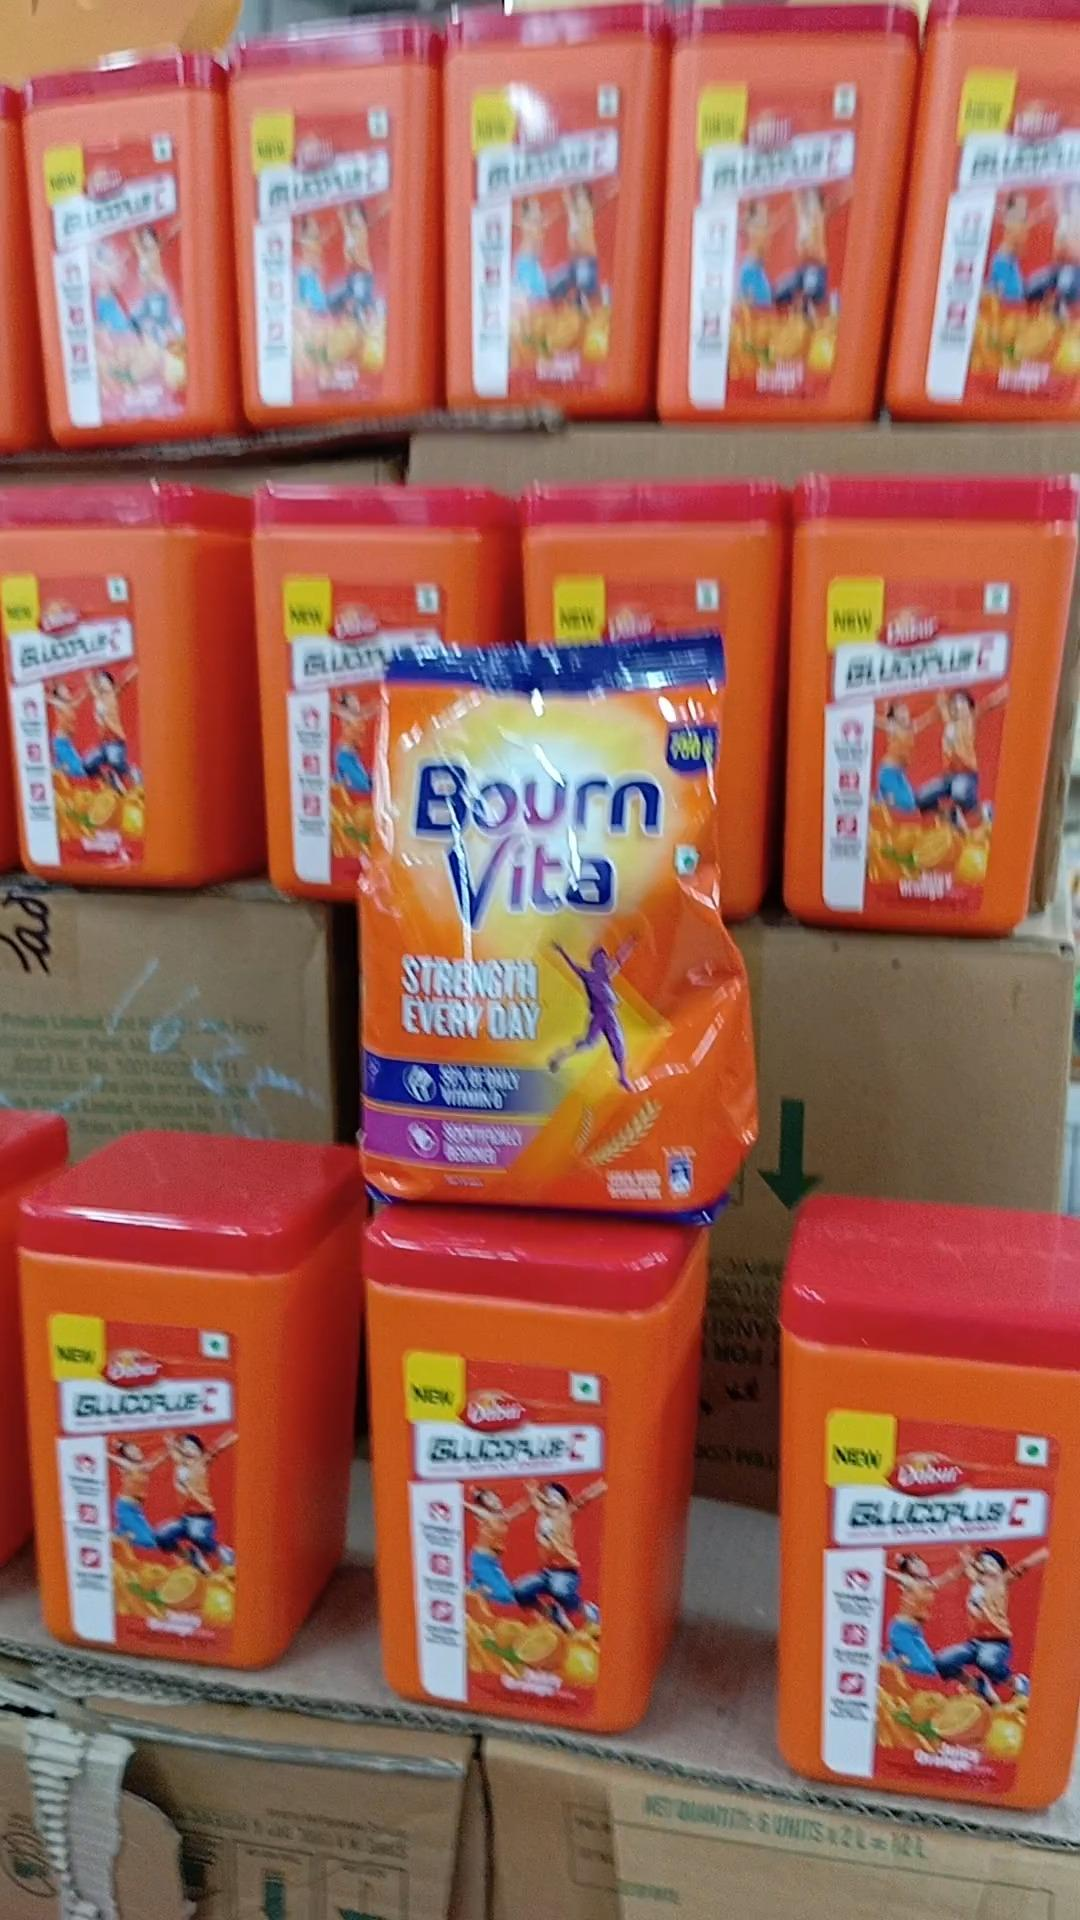BOURN_VITA_750_G_POUCH: (378, 654, 756, 1216)
